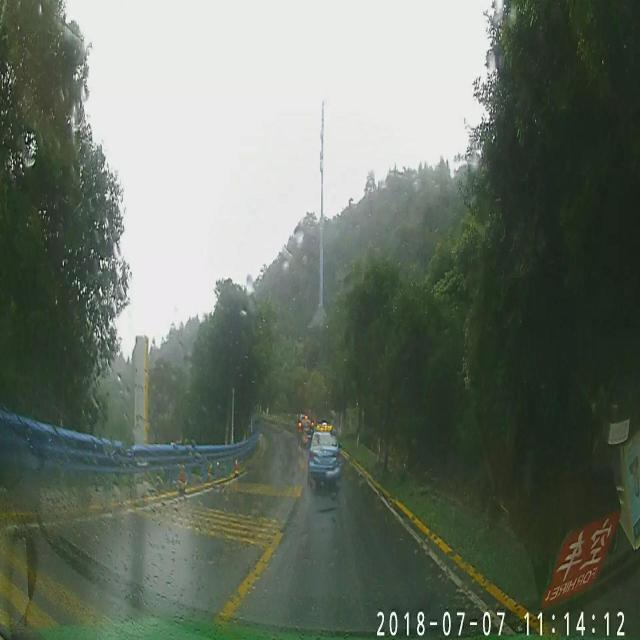car: (306, 422, 341, 484), (297, 414, 315, 446)
